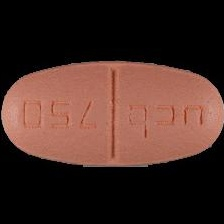65084-457: (0, 0, 224, 224)
